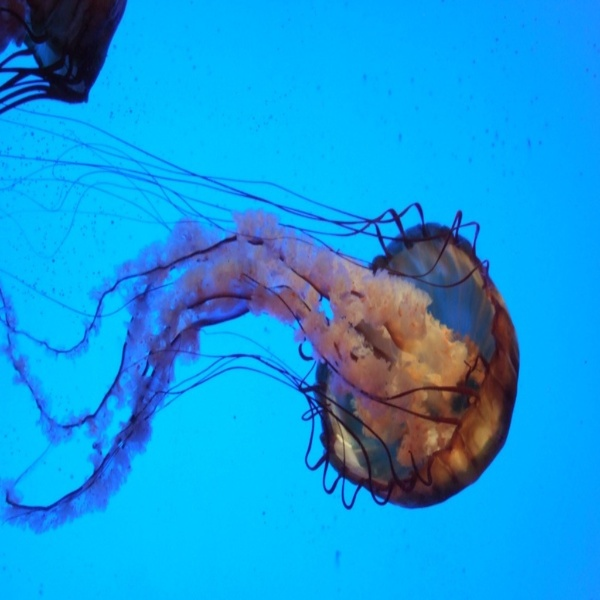Jellyfish: (0, 98, 520, 536)
